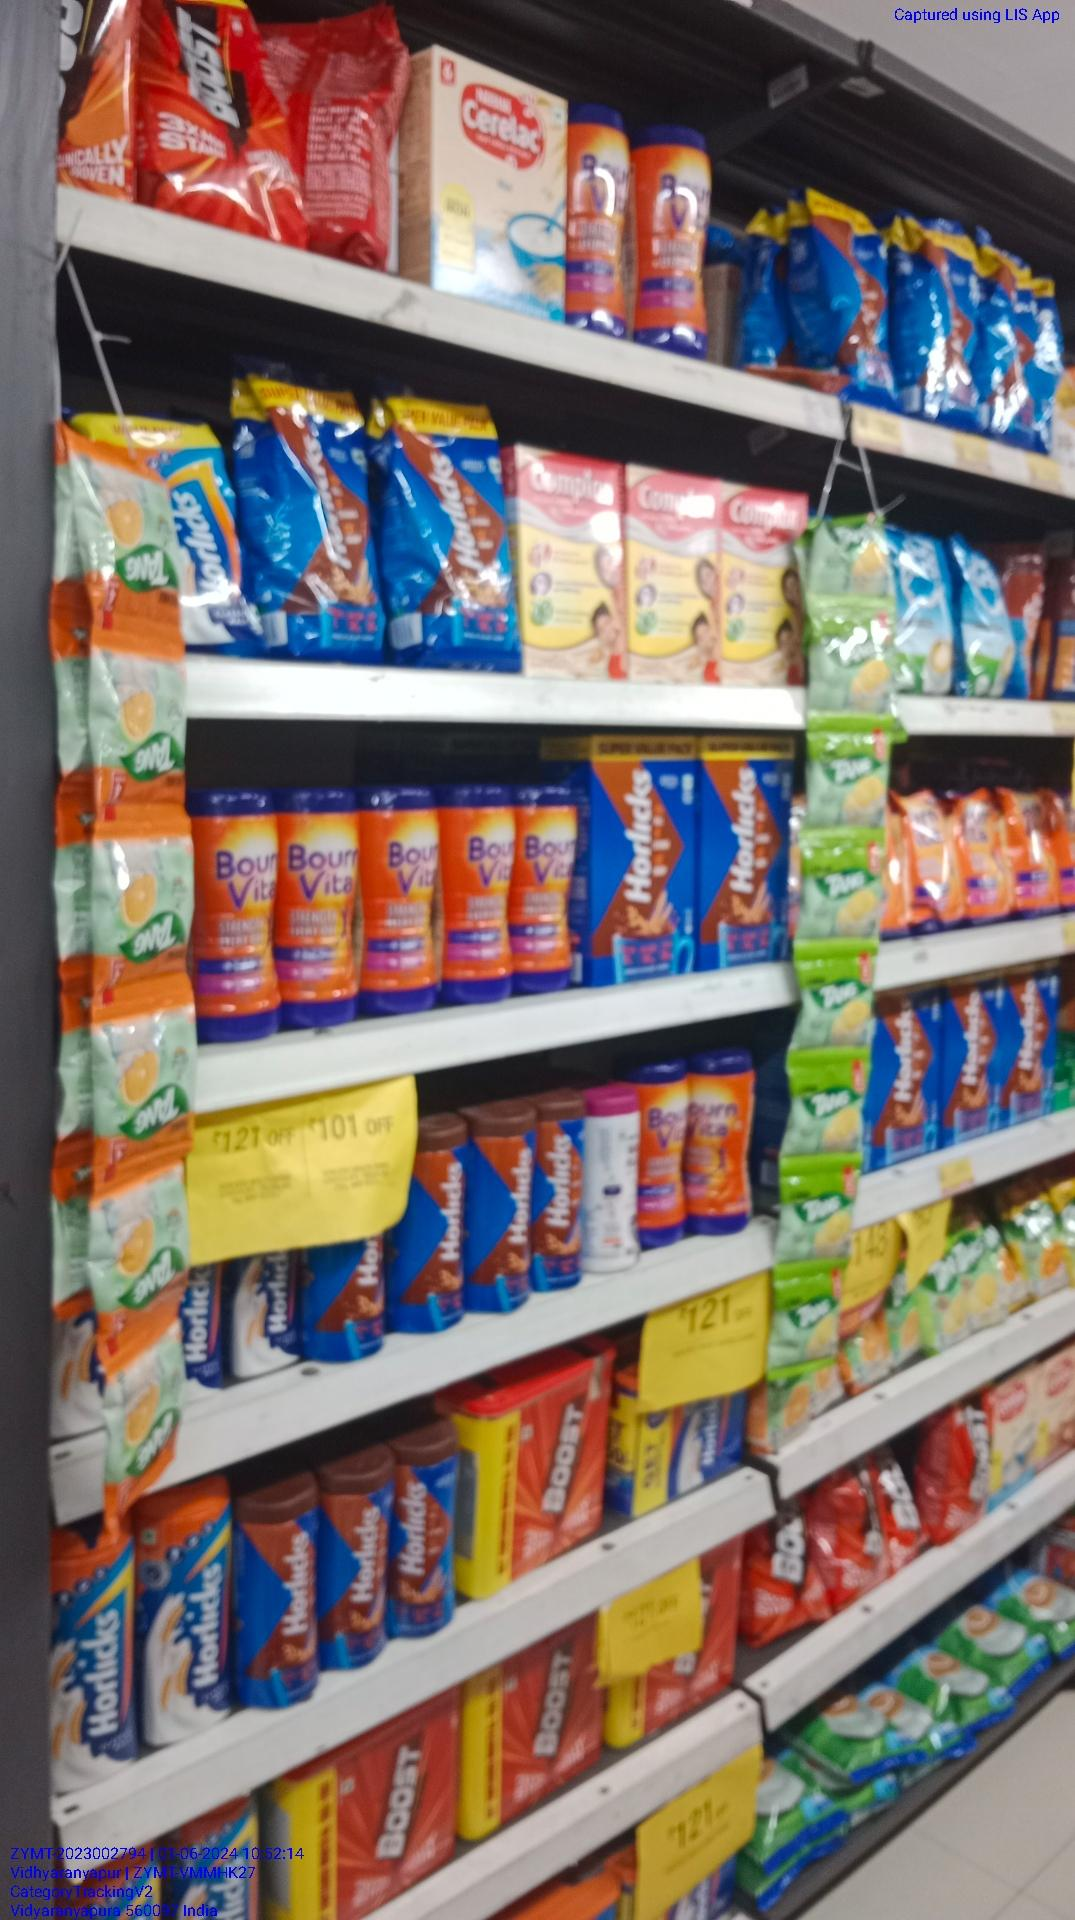BOURN_VITA_1_KG_JAR: (632, 120, 718, 357), (566, 102, 629, 336)
BOURN_VITA_500_G_JAR: (193, 790, 276, 1043), (280, 787, 357, 1019), (364, 783, 437, 1010), (438, 785, 508, 1002), (514, 783, 574, 993), (691, 1043, 753, 1236), (642, 1064, 687, 1249)
COMPLAN_KESAR_BADAM_500_GMS_PACK: (512, 448, 624, 683), (624, 465, 719, 683), (723, 485, 803, 687)
HORLICK_CHOCOLATE_500_G_JAR: (236, 1462, 318, 1705), (394, 1415, 460, 1640), (326, 1443, 389, 1667), (401, 1118, 464, 1329), (470, 1105, 533, 1315), (538, 1089, 583, 1288)
HORLICK_CLASSIC_MALT_500_G_JAR: (141, 1487, 228, 1737), (59, 1522, 135, 1792)
